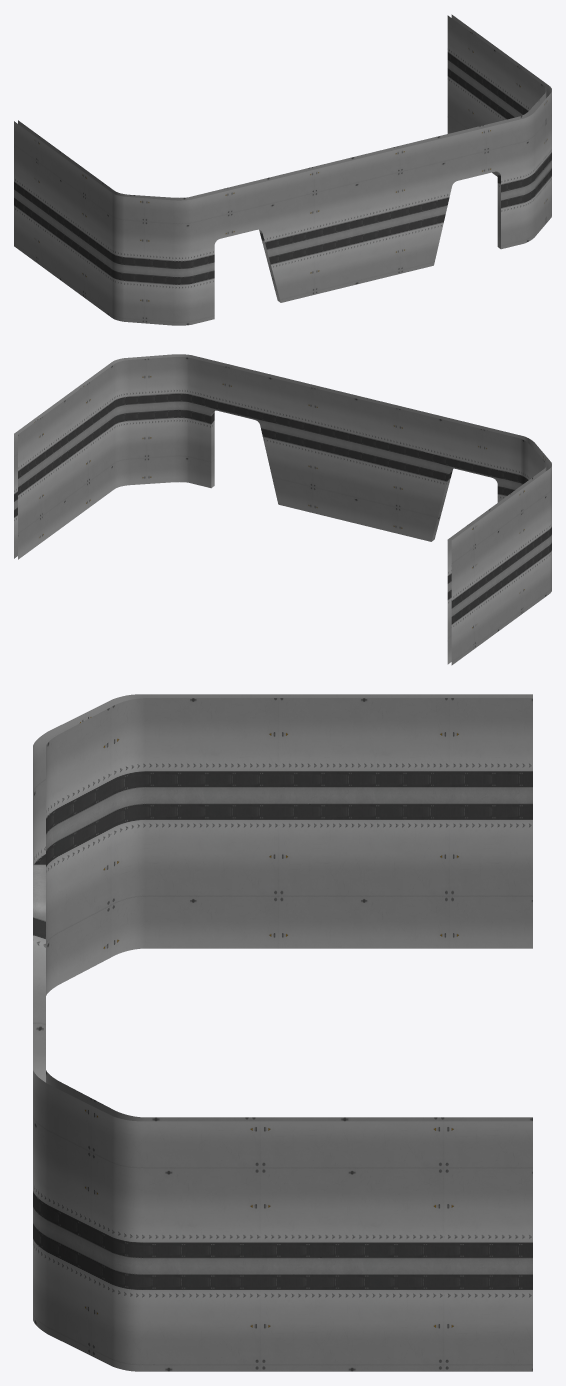
File: EC_Wall_DisplayRoom.FBX
The picture shows the model from 3 angles, top to bottom: view 1: azimuth 30°, elevation 25°; view 2: azimuth 150°, elevation 25°; view 3: azimuth 270°, elevation 25°; orthographic projection. The views are drawn at different scales.
Parts seen in each view (by area): view 1: EC_Wall_DisplayRoom; view 2: EC_Wall_DisplayRoom; view 3: EC_Wall_DisplayRoom.
Boxes of the visible parts, x1=… form: EC_Wall_DisplayRoom: x1=14, y1=14, x2=551, y2=325; EC_Wall_DisplayRoom: x1=14, y1=354, x2=551, y2=665; EC_Wall_DisplayRoom: x1=33, y1=694, x2=532, y2=1371.
Bounding box in the file's own units: 14788 × 4043 × 7311.
1 material, 1 textured.
